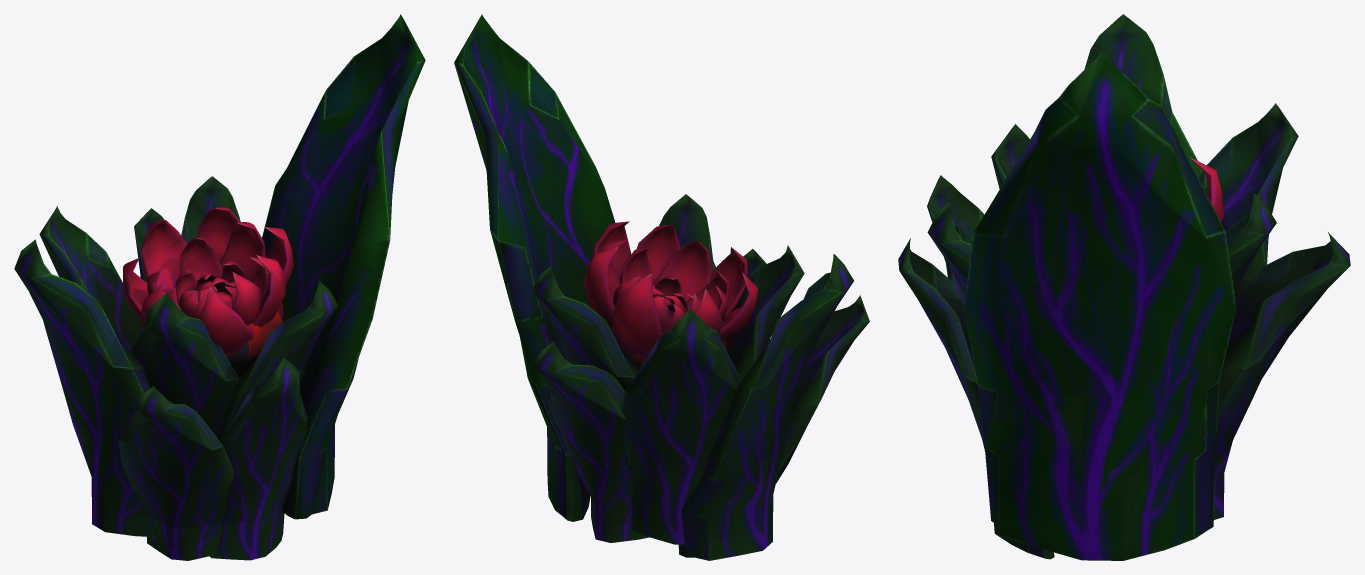
The model's file is flower.fbx.
The picture shows the model from 3 angles, left to right: view 1: azimuth 30°, elevation 25°; view 2: azimuth 150°, elevation 25°; view 3: azimuth 270°, elevation 25°; orthographic projection. The views are drawn at different scales.
Visible parts, largest first — view 1: Object001; view 2: Object001; view 3: Object001.
Boxes of the visible parts, left/top/right/bottom form: Object001: left=14, top=14, right=425, bottom=560; Object001: left=454, top=14, right=869, bottom=560; Object001: left=898, top=14, right=1350, bottom=560.
Size of the model in its own units: 70 by 80.97 by 55.91.
1 material, 1 textured.
